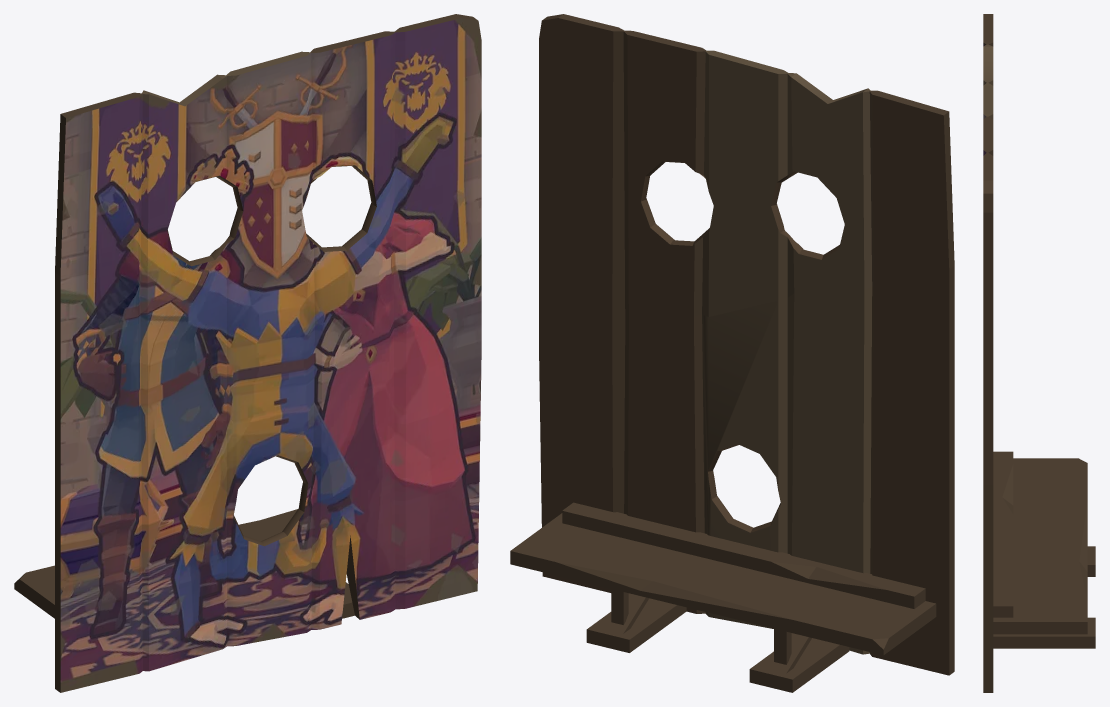
Rendered from SM_Prop_Photo_Stand_03.glb.
3 views of the same model, side by side, from view 1: azimuth 30°, elevation 25°; view 2: azimuth 150°, elevation 25°; view 3: azimuth 270°, elevation 25° (orthographic). The views are drawn at different scales.
Visible parts, largest first — view 1: SM_Prop_Photo_Stand_03; view 2: SM_Prop_Photo_Stand_03; view 3: SM_Prop_Photo_Stand_03.
Part boxes in pixels (x1,y1,x2,y2): SM_Prop_Photo_Stand_03: (14,14,481,692); SM_Prop_Photo_Stand_03: (510,14,954,692); SM_Prop_Photo_Stand_03: (983,14,1095,692).
Size of the model in its own units: 157 by 205 by 41.31.
1 material, 1 textured.
